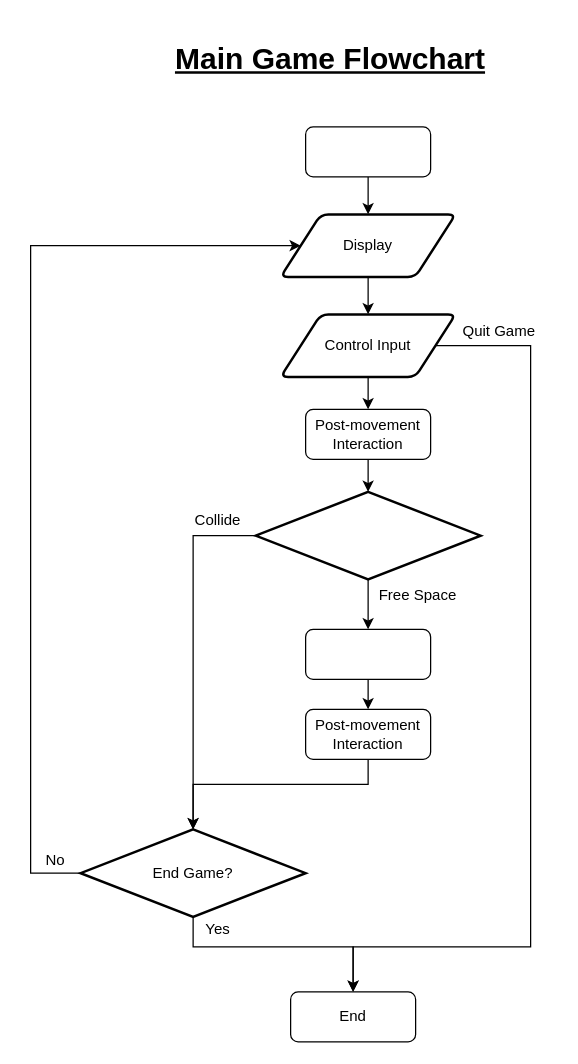
Image size: 578x1064. Some labels were removed from this diagram. The centre of each missing label's shape, as x and y in pixels:
"Colision Check" goes at point (367, 535).
"Move" goes at point (367, 653).
"Start" goes at point (367, 151).
